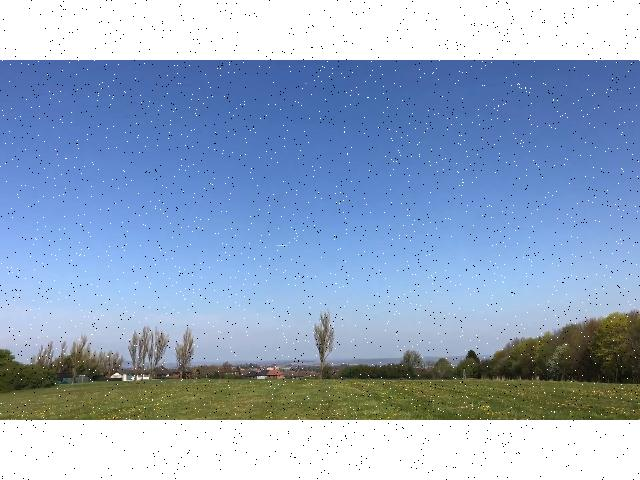Anti-Drone: (272, 238, 296, 250)
